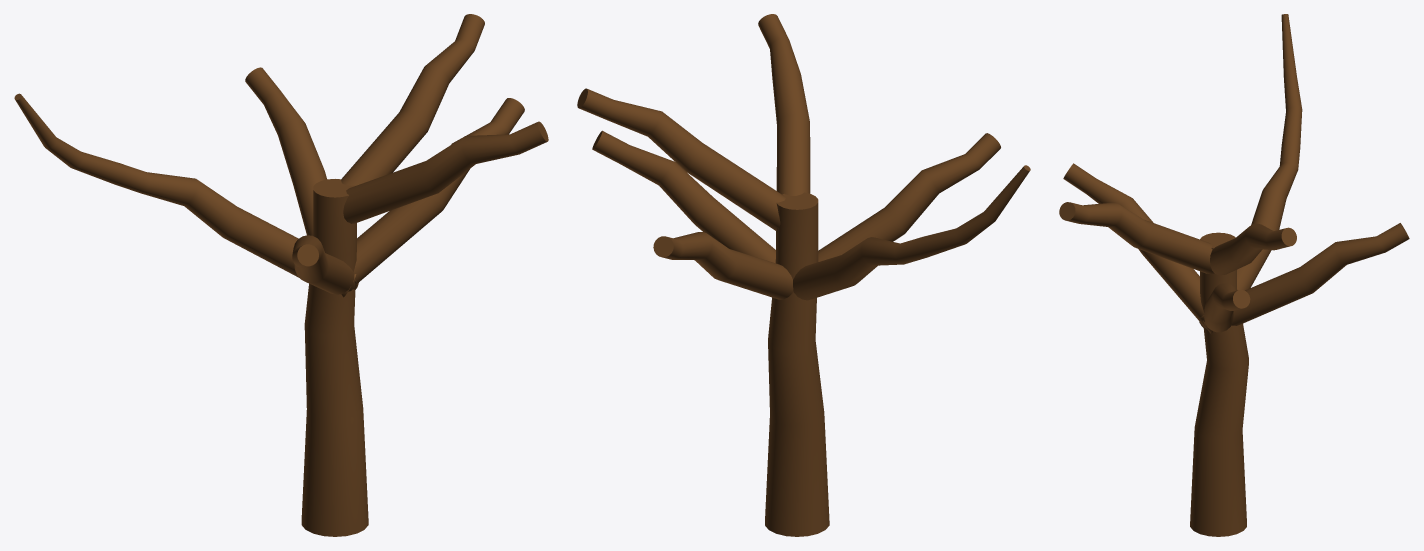
The model's file is kuru ağaç.fbx.
3 views of the same model, side by side, from view 1: azimuth 30°, elevation 25°; view 2: azimuth 150°, elevation 25°; view 3: azimuth 270°, elevation 25° (orthographic). The views are drawn at different scales.
Parts seen in each view (by area): view 1: Group1, Group4, Group6, Group7, Group2, Group3, Group5; view 2: Group1, Group7, Group4, Group2, Group6, Group5, Group3; view 3: Group1, Group3, Group4, Group6, Group5, Group7, Group2.
Boxes of the visible parts, x1,y1,x2,y2 form: Group1: (301, 179, 368, 536); Group4: (14, 93, 356, 297); Group6: (343, 121, 548, 223); Group7: (341, 14, 484, 185); Group2: (354, 98, 524, 283); Group3: (245, 67, 356, 289); Group5: (292, 235, 358, 294); Group1: (765, 192, 829, 536); Group7: (577, 88, 785, 230); Group4: (793, 165, 1030, 300); Group2: (592, 130, 775, 263); Group6: (758, 14, 810, 232); Group5: (818, 133, 1000, 261); Group3: (653, 232, 793, 299); Group1: (1190, 232, 1248, 536); Group3: (1203, 223, 1409, 331); Group4: (1199, 14, 1302, 327); Group6: (1059, 202, 1214, 274); Group5: (1063, 163, 1213, 334); Group7: (1210, 223, 1296, 275); Group2: (1204, 283, 1250, 332).
Size of the model in its own units: 373 by 346 by 277.
